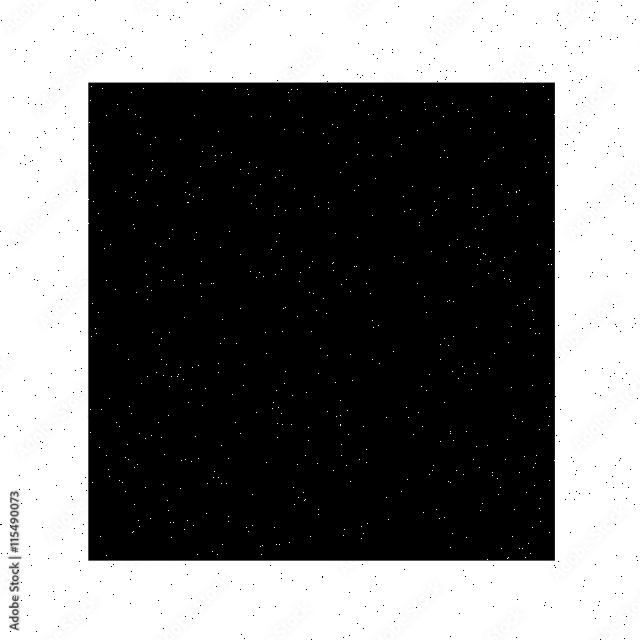Banana: (88, 83, 555, 561)
